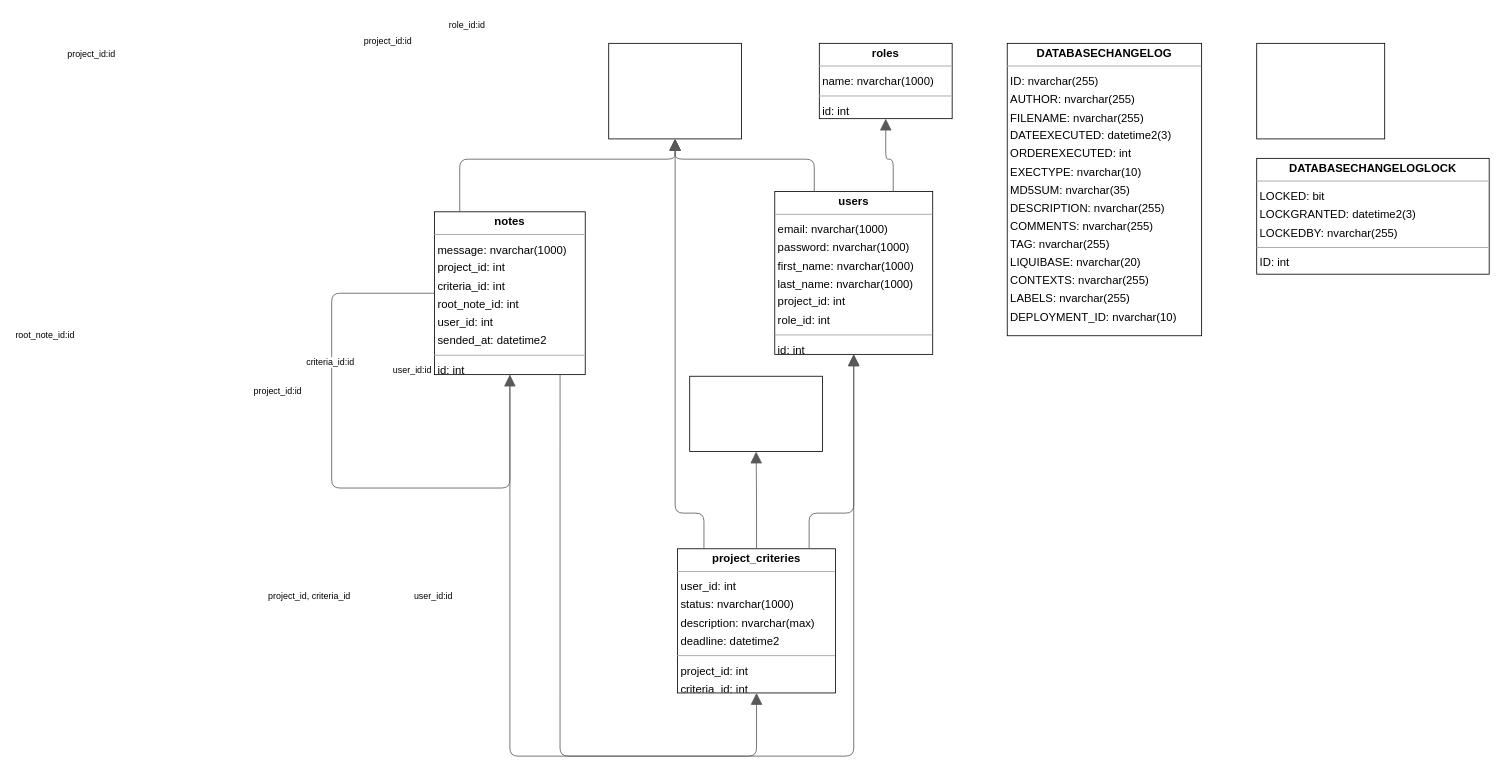
Some shapes in this 1503 by 782 pixel diagram are drawn without their labels. Here are the shapes that lost their labels. From the top down, the box of each, then its label:
(608, 43, 742, 139): projects name: nvarchar(1000) approved: bit id: int
(1256, 43, 1385, 139): logs type: nvarchar(1000) action_at: datetime2 id: int
(689, 375, 823, 452): criteries name: nvarchar(1000) id: int
